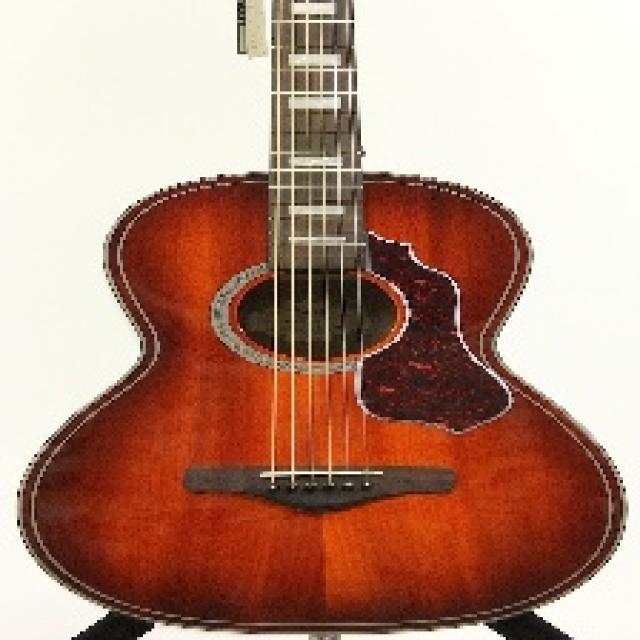guitar: (11, 3, 632, 632)
